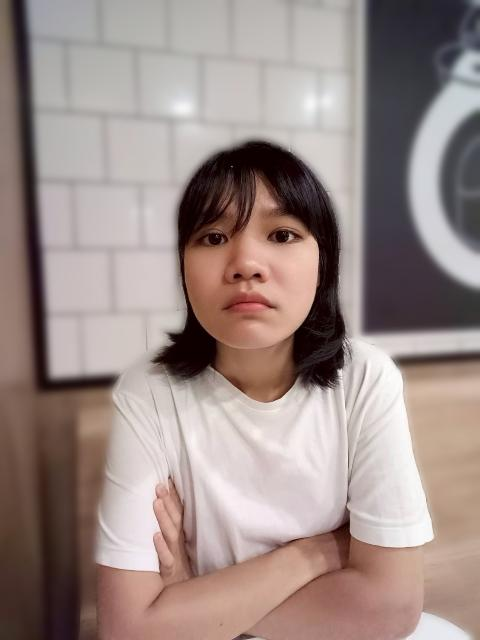fokus: (180, 151, 338, 353)
